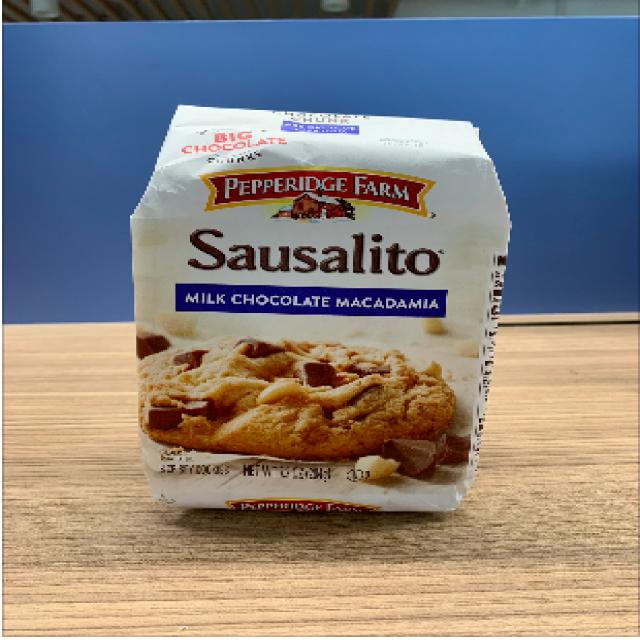object_name: (143, 105, 484, 516)
